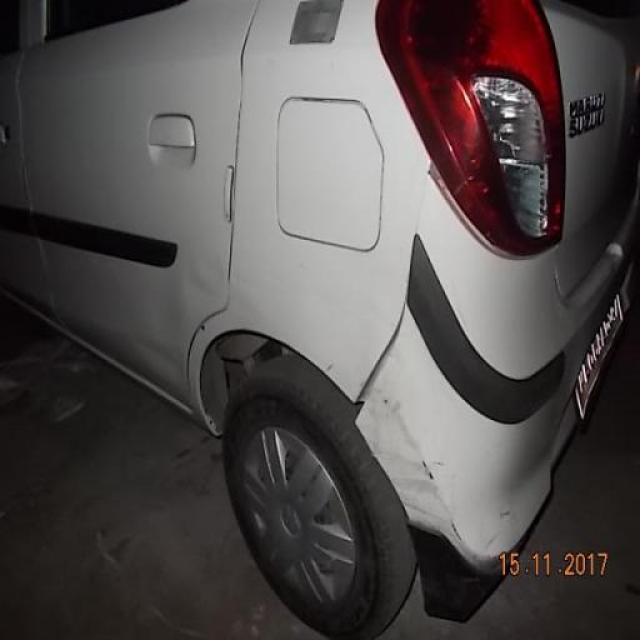dent: (365, 386, 500, 575), (134, 265, 268, 391)
misalignment: (349, 298, 410, 428)
